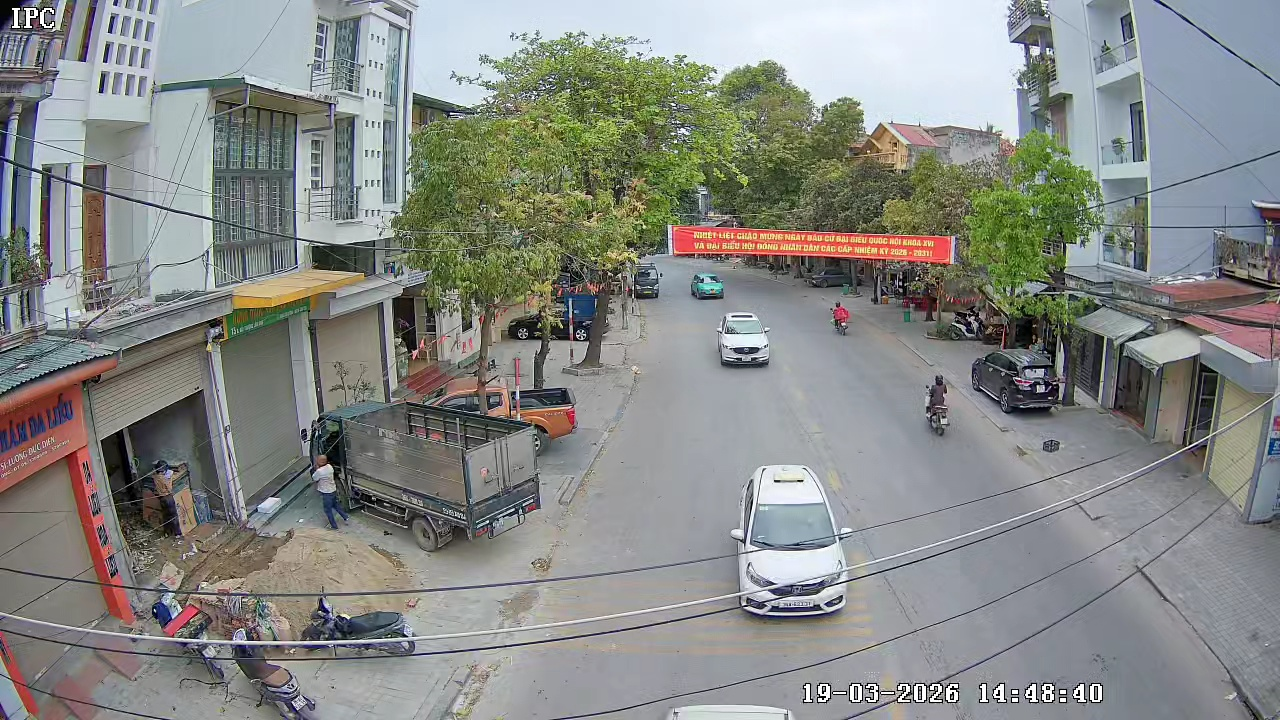car: (728, 464, 851, 618), (510, 384, 577, 449), (715, 310, 772, 368), (690, 272, 725, 300), (634, 266, 662, 298)
motorbike: (922, 372, 953, 438), (831, 300, 849, 336)
truck: (302, 385, 543, 549)
